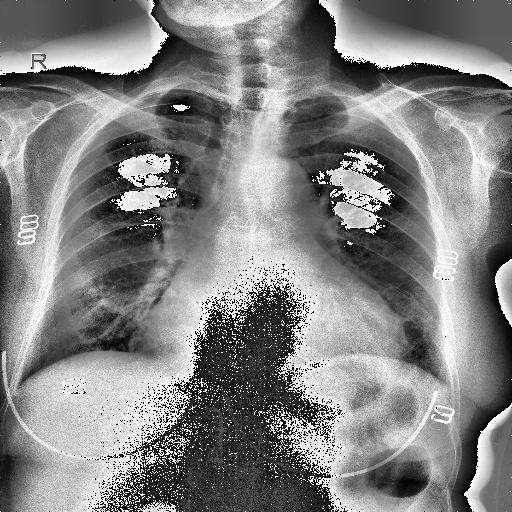0- Aortic enlargement: (246, 159, 325, 226), (246, 157, 320, 214)
3- Cardiomegaly: (142, 272, 412, 380), (144, 289, 405, 361), (142, 316, 408, 359)
